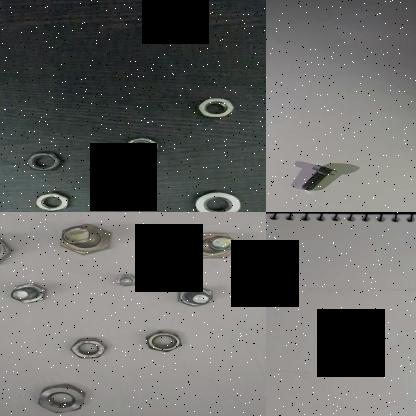Bolts: (50, 224, 118, 258), (186, 230, 238, 260), (168, 284, 216, 312), (296, 162, 338, 193), (5, 282, 49, 306), (104, 270, 140, 290)
NUTS: (39, 382, 89, 416), (185, 186, 245, 212), (64, 330, 110, 362), (143, 326, 183, 362), (191, 97, 243, 124), (119, 136, 164, 164), (19, 149, 66, 175), (30, 189, 76, 212)
